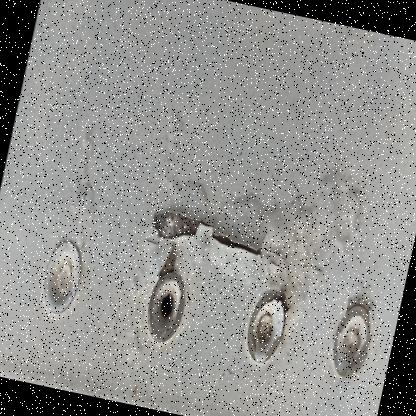Crack: (11, 85, 415, 415)
